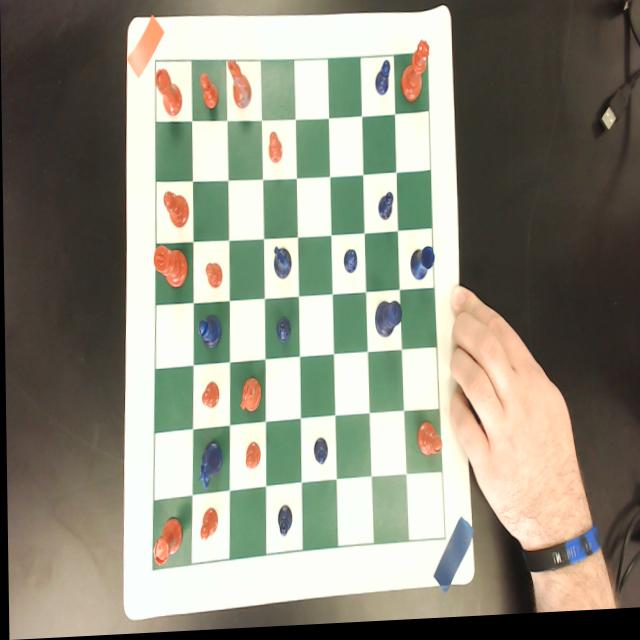B: (197, 317, 222, 352)
K: (373, 304, 402, 343)
N: (197, 442, 222, 493), (272, 247, 291, 284)
P: (374, 63, 392, 100), (275, 506, 291, 542), (311, 438, 328, 469), (377, 195, 394, 224), (275, 318, 290, 346), (343, 252, 357, 278)
R: (410, 249, 434, 284)
b: (162, 192, 189, 233), (416, 424, 440, 463)
k: (153, 245, 187, 292)
n: (226, 62, 251, 113), (239, 377, 261, 418)
p: (199, 73, 219, 114), (197, 508, 217, 544), (267, 134, 284, 169), (199, 383, 219, 412), (243, 444, 260, 472), (204, 265, 222, 291)
q: (399, 44, 430, 107)
r: (151, 517, 183, 570), (154, 68, 183, 119)
